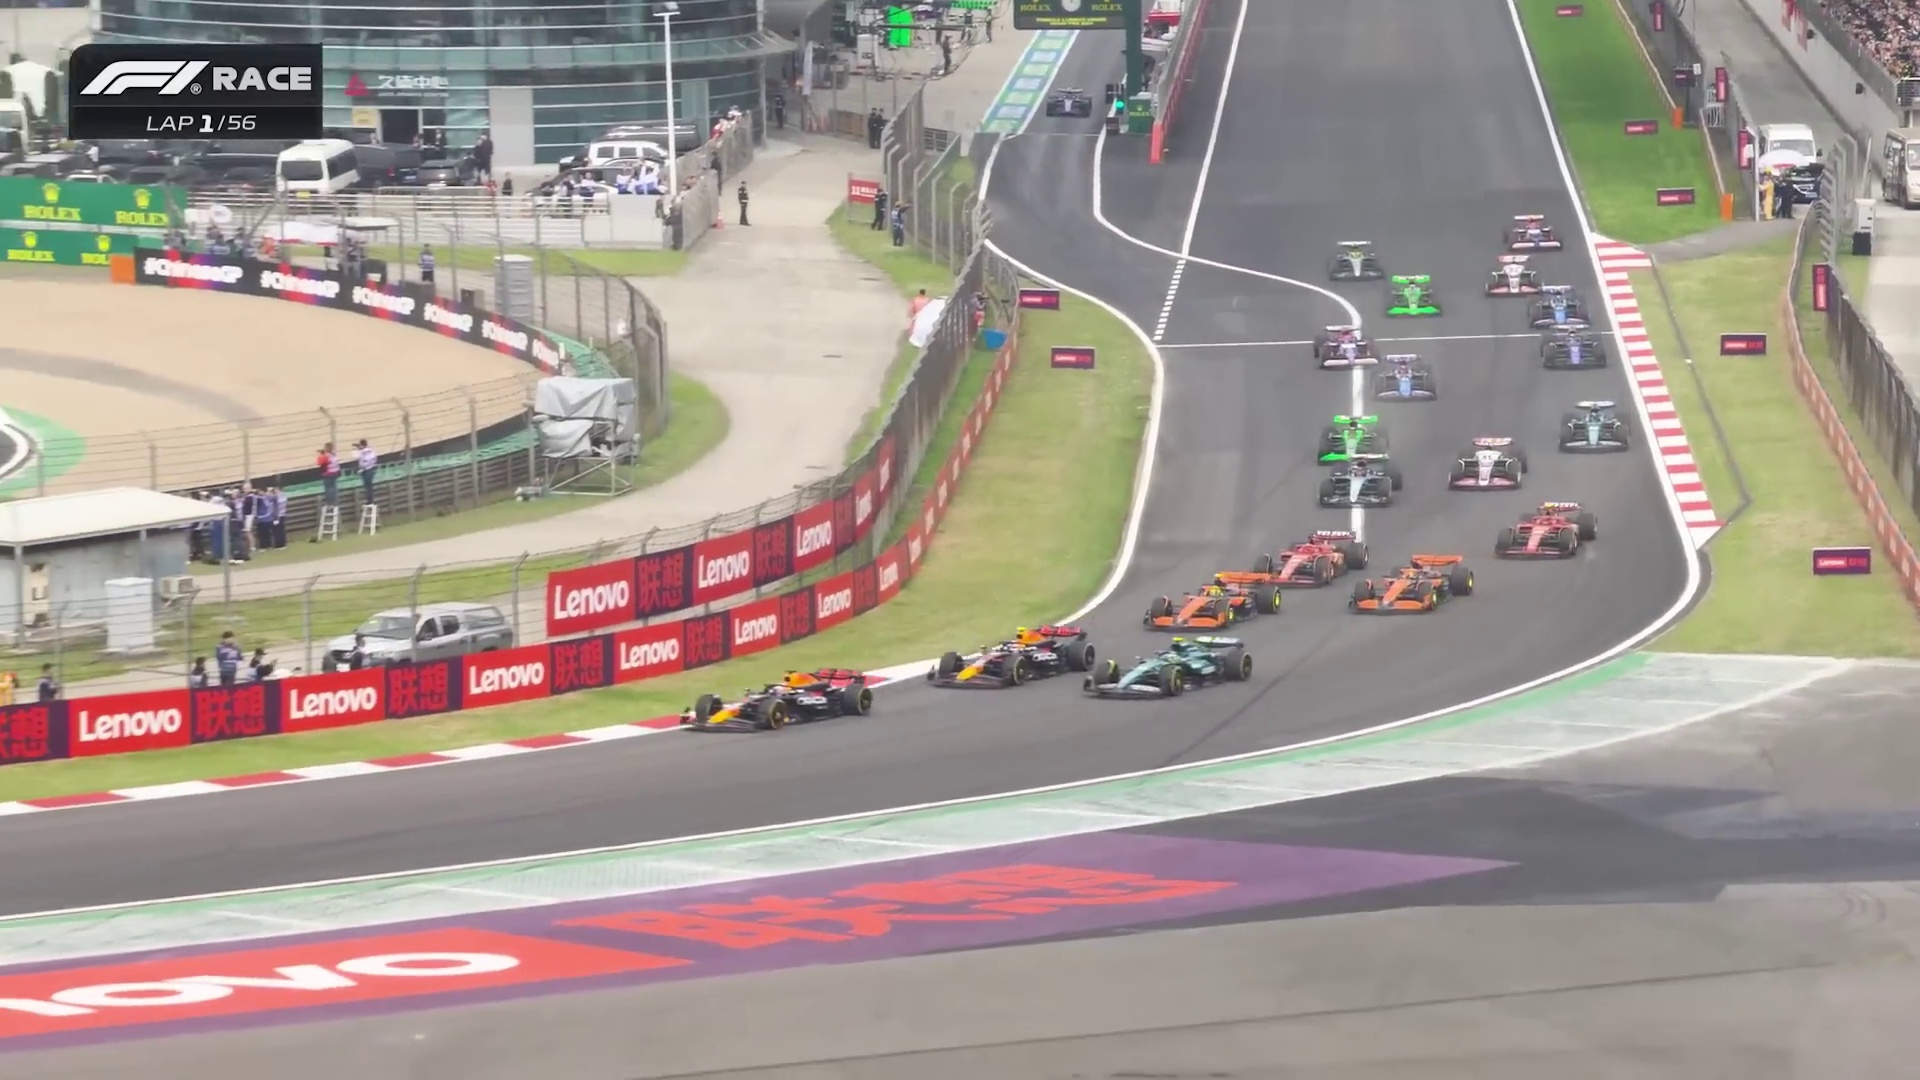Alpine: (1530, 284, 1596, 332), (1374, 357, 1436, 402)
AstonMartin: (1077, 638, 1262, 702), (1557, 396, 1640, 455)
Ferrari: (1266, 529, 1371, 587), (1503, 501, 1604, 560)
Haas: (1448, 435, 1528, 488), (1486, 255, 1538, 295)
Mclaren: (1150, 568, 1284, 636), (1354, 555, 1472, 611)
Mercedes: (1316, 459, 1400, 509), (1328, 240, 1379, 278)
RedBull: (680, 669, 880, 732), (930, 628, 1095, 691)
Sauber: (1313, 411, 1394, 464), (1389, 272, 1444, 319)
VisaRB: (1307, 328, 1381, 369), (1494, 210, 1567, 251)
Willliams: (1538, 324, 1613, 372)
